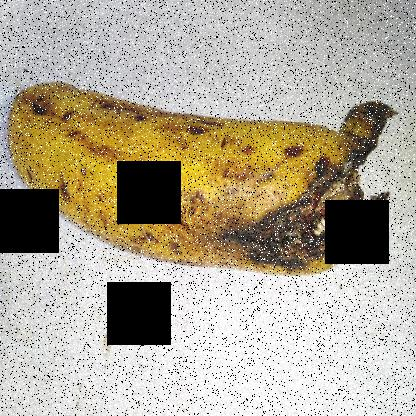rotten: (220, 88, 402, 299)
